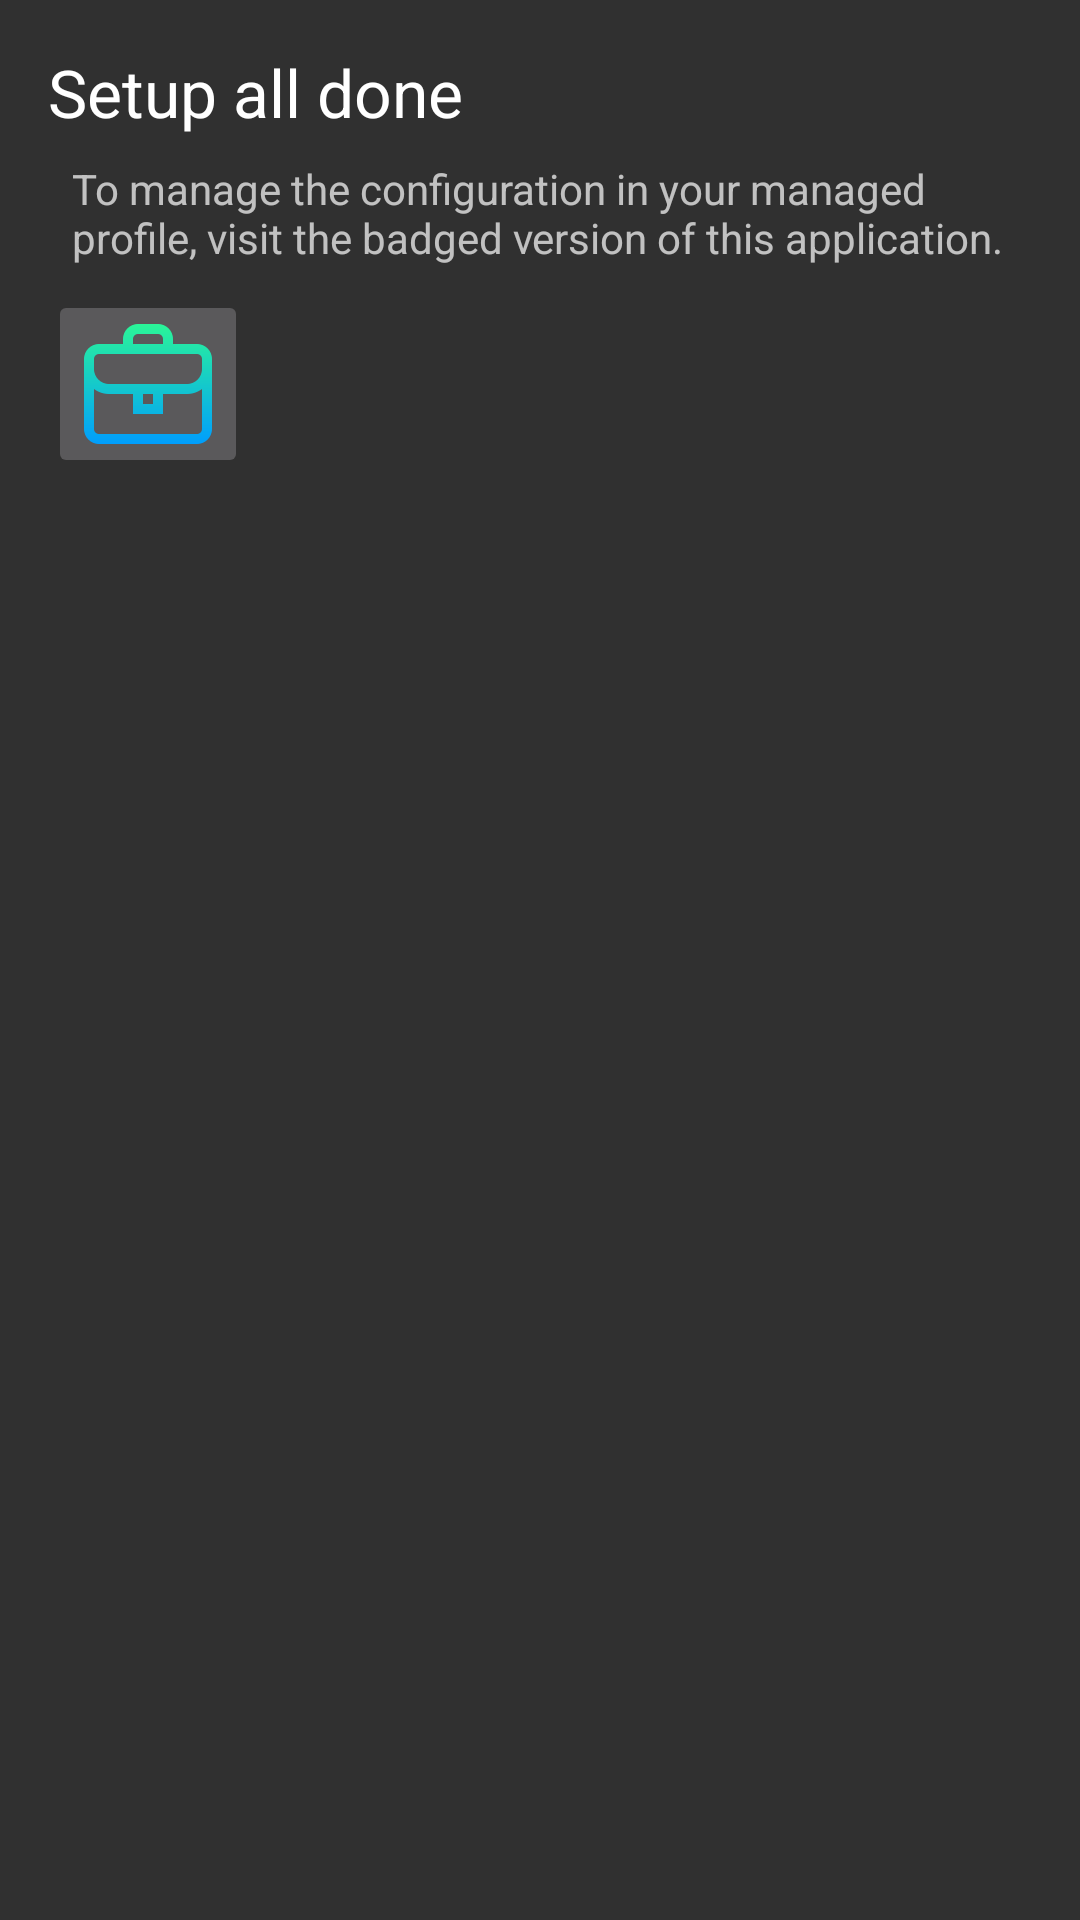

Where to tap for icons on this 1080 × 1920 app screen, as [x,y]:
portfolio: [148,384]
